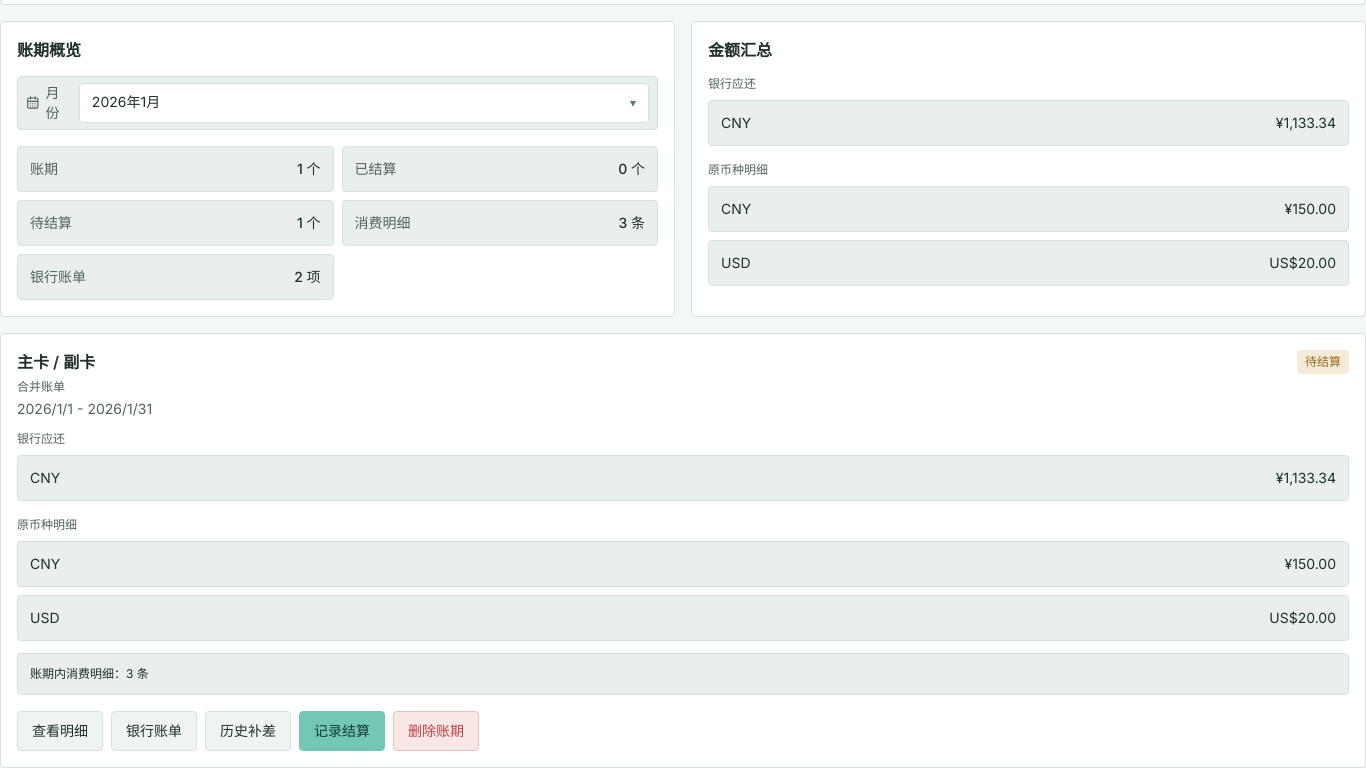
Test case: CreditStatementsView › previews combined settlement by bank CNY billing amounts
(page scrolled)
Click the button "记录结算" at (342, 731), box [299, 711, 385, 751]
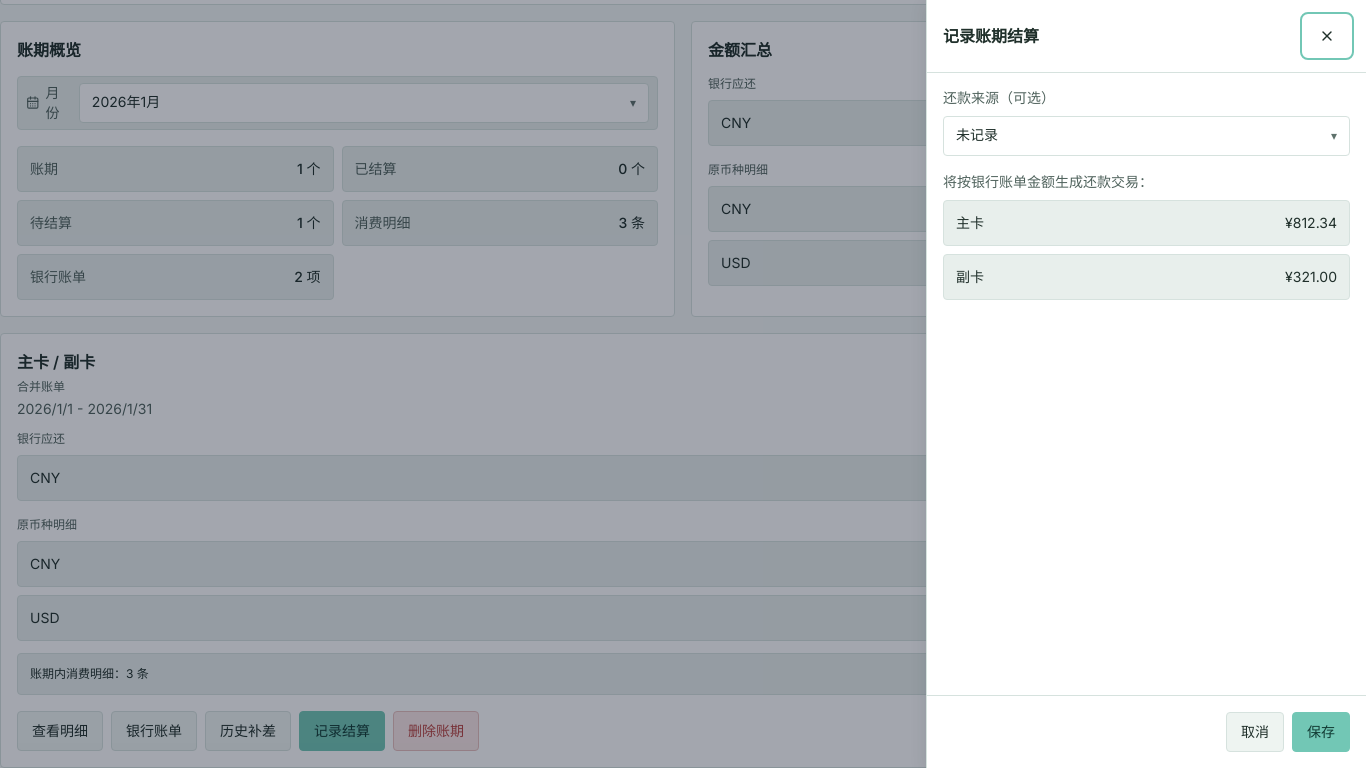
Expected: the text "将按银行账单金额生成还款交易：" is shown, [943, 173, 1153, 190]
Expected: the text "¥812.34" is shown, [1285, 213, 1337, 233]
Expected: the text "¥321.00" is shown, [1285, 267, 1337, 287]
